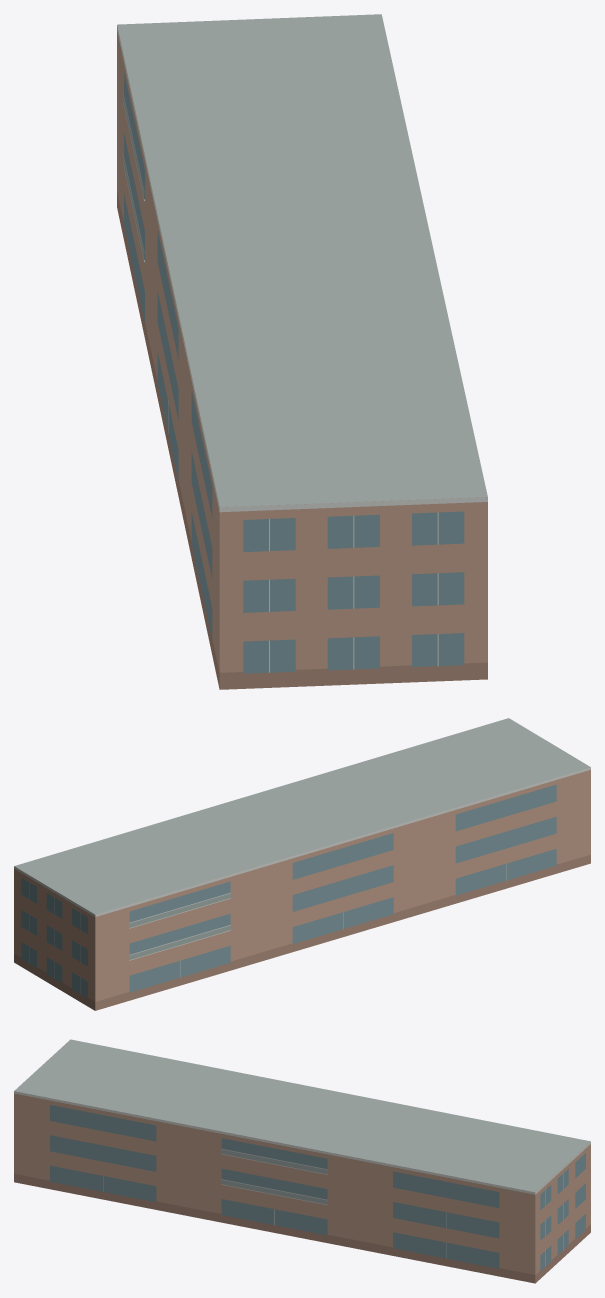
Rendered from survey-upis-32720053.glb.
3 renders of one model, top to bottom at view 1: azimuth 30°, elevation 25°; view 2: azimuth 150°, elevation 25°; view 3: azimuth 270°, elevation 25°, orthographic. The views are drawn at different scales.
Parts seen in each view (by area): view 1: survey-upis-32720053.tmp; view 2: survey-upis-32720053.tmp; view 3: survey-upis-32720053.tmp.
Boxes of the visible parts, <box> form: survey-upis-32720053.tmp: <box>117,14,487,689</box>; survey-upis-32720053.tmp: <box>14,718,590,1010</box>; survey-upis-32720053.tmp: <box>14,1039,590,1283</box>.
Size of the model in its own units: 32.93 by 9.15 by 52.48.
